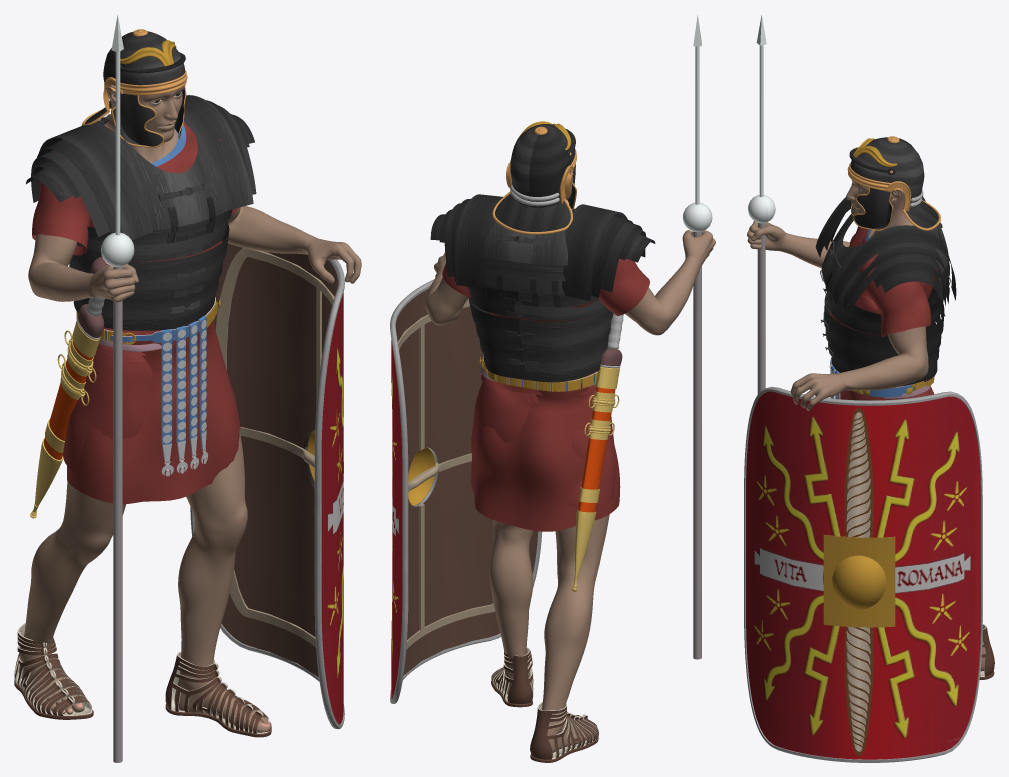
Rendered from Roman_Legionaire.glb.
The picture shows the model from 3 angles, left to right: view 1: azimuth 30°, elevation 25°; view 2: azimuth 150°, elevation 25°; view 3: azimuth 270°, elevation 25°; orthographic projection. The views are drawn at different scales.
Visible parts, largest first — view 1: ShieldBack, 3_SkinLeg, tunic, Leather, ShieldFront, Bronze_loricasegmentata, 3_SkinForearm, Boxers, Zylinder_1, Bracing, Coolus_Steel, Scutum (+23 smaller); view 2: ShieldBack, tunic, 3_SkinLeg, Leather, Bronze_loricasegmentata, Coolus_Steel, Boxers, 3_SkinForearm, scabbard, Scutum, Zylinder_1, ShieldFront (+17 smaller); view 3: ShieldFront, Boss, Coolus_Steel, 3_SkinForearm, Scutum, Bronze_loricasegmentata, TUNICA_Fabric, Leather, lCollar, 3_SkinHand, Zylinder_1, lShldr (+6 smaller).
Boxes of the visible parts, x1,y1,x2,y2 form: ShieldBack: (213, 243, 338, 677); 3_SkinLeg: (25, 431, 247, 658); tunic: (67, 320, 239, 504); Leather: (77, 114, 232, 261); ShieldFront: (304, 292, 343, 724); Bronze_loricasegmentata: (69, 224, 229, 330); 3_SkinForearm: (28, 206, 316, 301); Boxers: (63, 350, 240, 473); Zylinder_1: (113, 266, 122, 762); Bracing: (215, 248, 334, 647); Coolus_Steel: (84, 31, 185, 146); Scutum: (190, 223, 344, 729); ShieldBack: (395, 288, 538, 676); tunic: (471, 383, 620, 531); 3_SkinLeg: (489, 514, 609, 699); Leather: (467, 208, 606, 320); Bronze_loricasegmentata: (468, 297, 613, 382); Coolus_Steel: (495, 124, 575, 231); Boxers: (471, 381, 615, 505); 3_SkinForearm: (425, 256, 700, 335); scabbard: (571, 366, 619, 592); Scutum: (390, 279, 542, 703); Zylinder_1: (693, 231, 701, 659); ShieldFront: (391, 340, 438, 699); ShieldFront: (746, 391, 980, 759); Boss: (823, 535, 895, 627); Coolus_Steel: (849, 137, 938, 229); 3_SkinForearm: (779, 233, 928, 391); Scutum: (744, 386, 982, 762); Bronze_loricasegmentata: (820, 287, 945, 386); TUNICA_Fabric: (830, 226, 937, 398); Leather: (820, 213, 950, 335); lCollar: (832, 225, 956, 307); 3_SkinHand: (747, 221, 843, 410); Zylinder_1: (757, 223, 765, 394); lShldr: (873, 261, 939, 293).
Bounding box in the file's own units: 1602 × 3888 × 1358.
26 materials, 5 textured.
